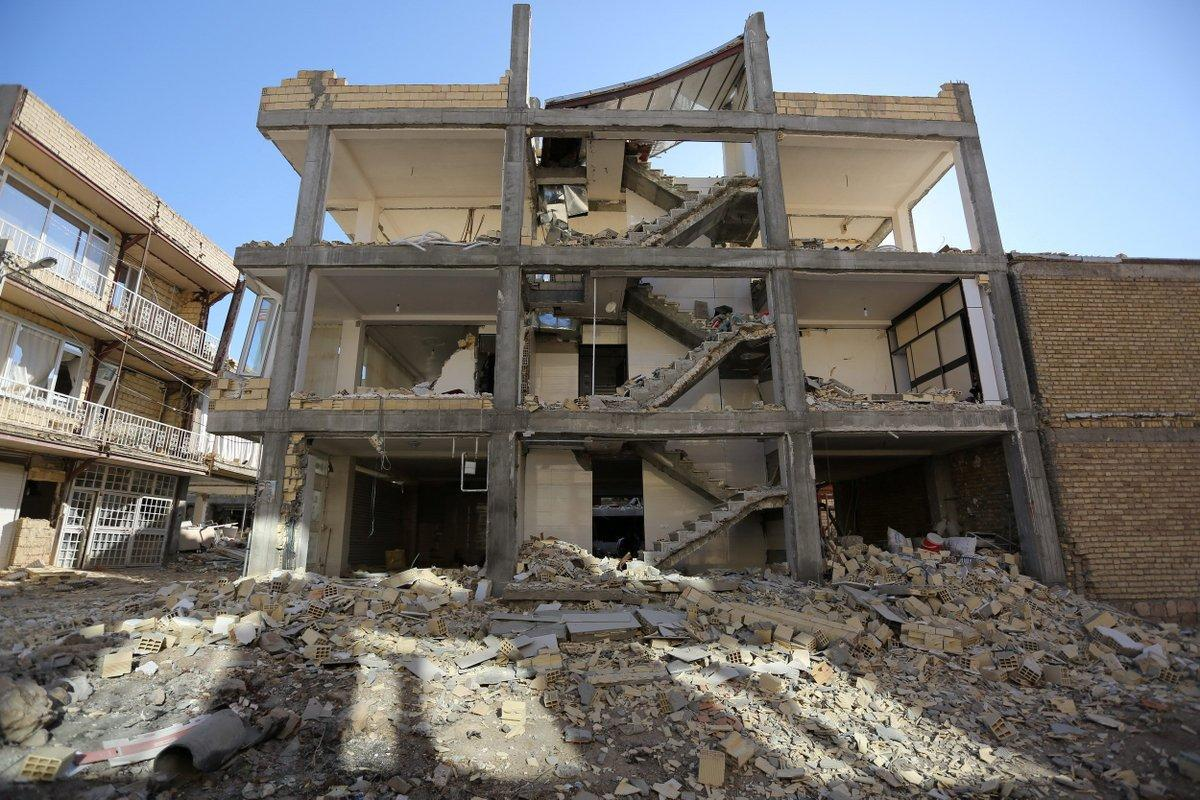destroyed: (245, 20, 1035, 678)
